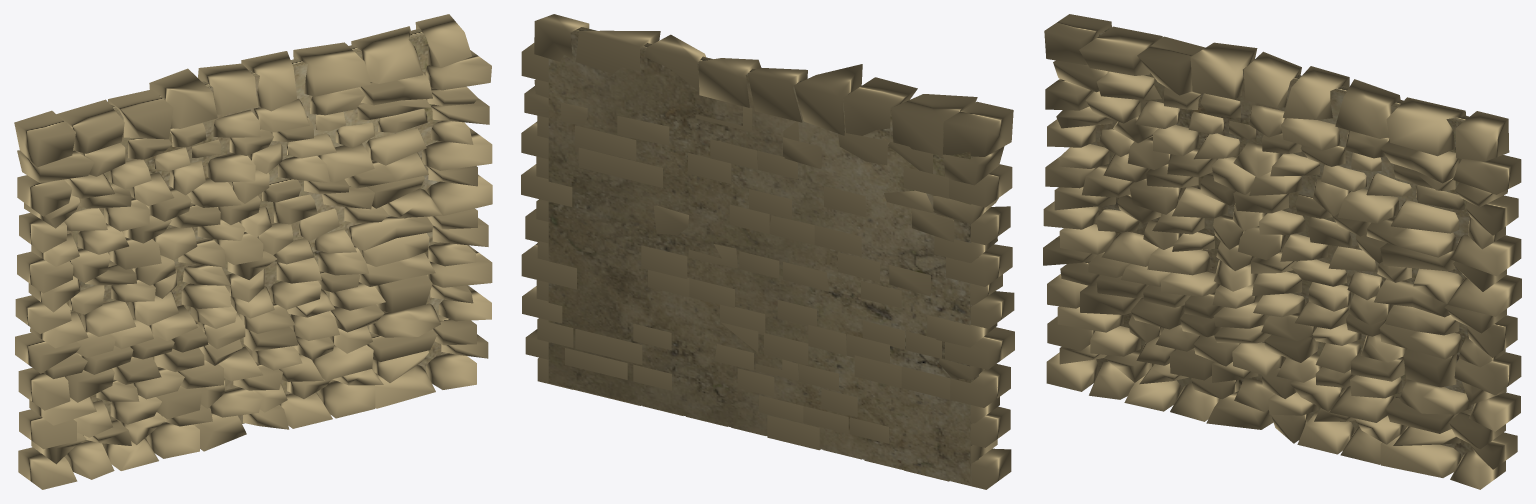
The model's file is temple walls.fbx.
The picture shows the model from 3 angles, left to right: view 1: azimuth 30°, elevation 25°; view 2: azimuth 150°, elevation 25°; view 3: azimuth 330°, elevation 25°; orthographic projection. The views are drawn at different scales.
Visible parts, largest first — view 1: rockwall.001; view 2: rockwall.001; view 3: rockwall.001.
Part boxes in pixels (x1,y1,x2,y2): rockwall.001: (14,14,492,489); rockwall.001: (521,14,1014,489); rockwall.001: (1043,14,1521,489).
Size of the model in its own units: 2070 by 1575 by 314.
